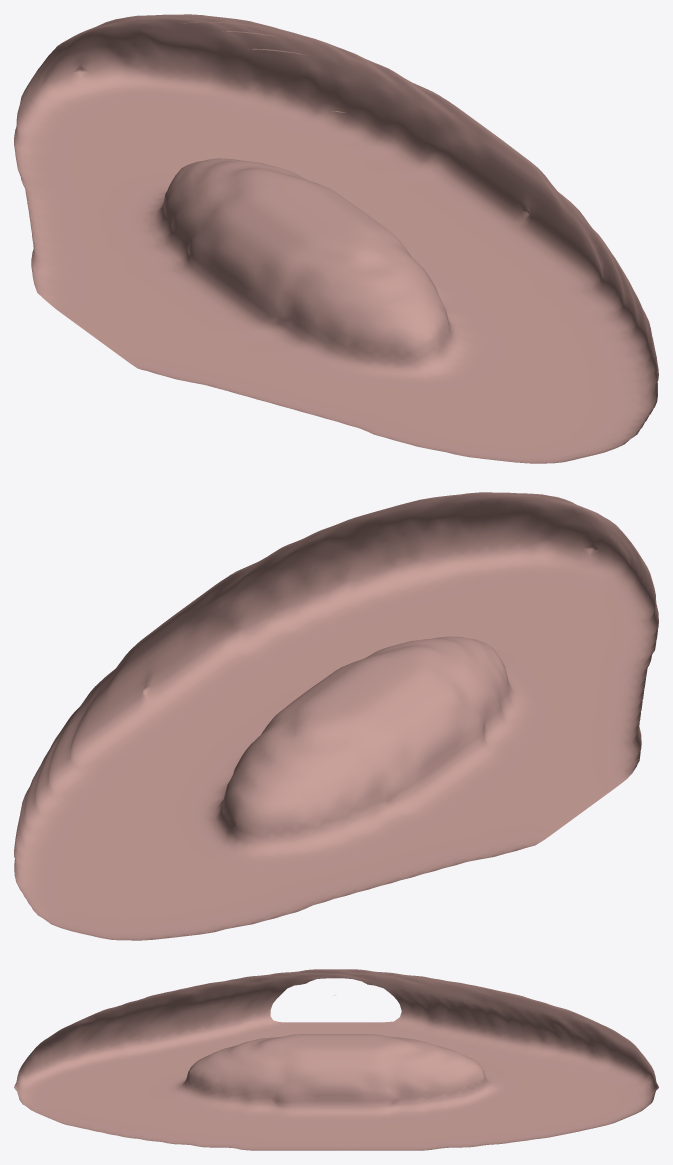
File: kidney.glb
3 renders of one model, top to bottom at view 1: azimuth 30°, elevation 25°; view 2: azimuth 150°, elevation 25°; view 3: azimuth 270°, elevation 25°, orthographic. The views are drawn at different scales.
Parts seen in each view (by area): view 1: geometry_0; view 2: geometry_0; view 3: geometry_0.
Boxes of the visible parts, x1,y1,x2,y2 form: geometry_0: (14,14,658,463); geometry_0: (14,492,658,940); geometry_0: (14,969,658,1150).
Size of the model in its own units: 43.78 by 15.49 by 88.16.
